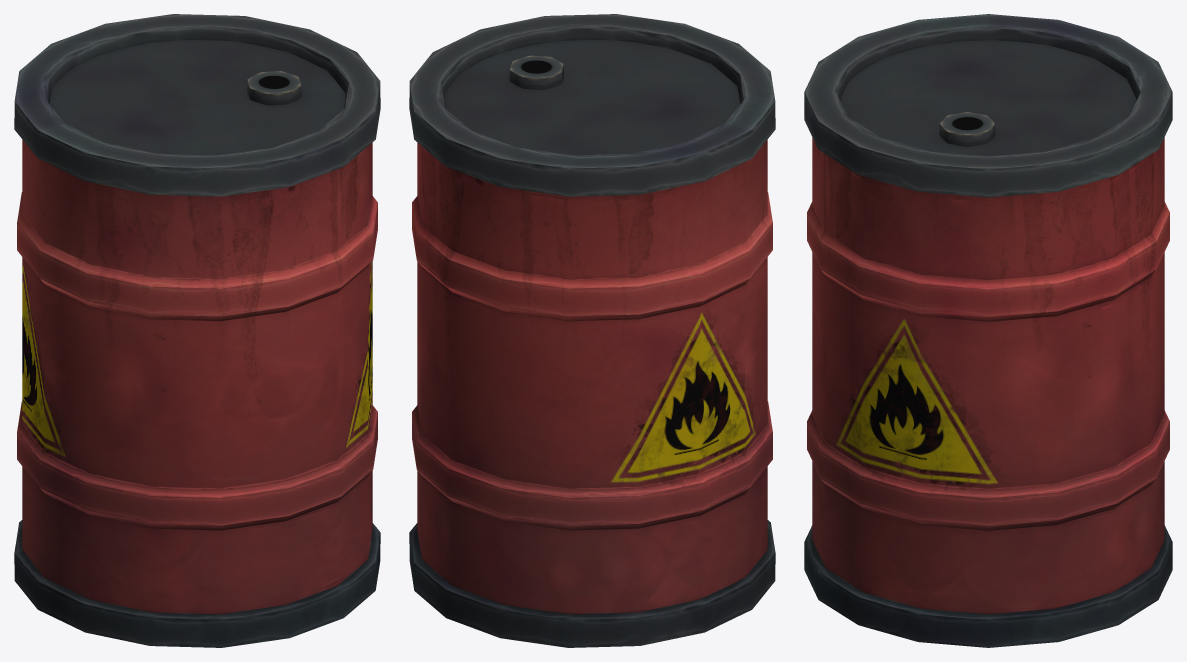
File: source.glb
3 renders of one model, left to right at view 1: azimuth 30°, elevation 25°; view 2: azimuth 150°, elevation 25°; view 3: azimuth 270°, elevation 25°, orthographic.
Parts seen in each view (by area): view 1: MetalBarrel_low; view 2: MetalBarrel_low; view 3: MetalBarrel_low.
Boxes of the visible parts, x1=… form: MetalBarrel_low: x1=14, y1=14, x2=380, y2=647; MetalBarrel_low: x1=409, y1=14, x2=775, y2=647; MetalBarrel_low: x1=804, y1=14, x2=1172, y2=647.
Size of the model in its own units: 0.6955 by 0.9971 by 0.6955.
1 material, 1 textured.
